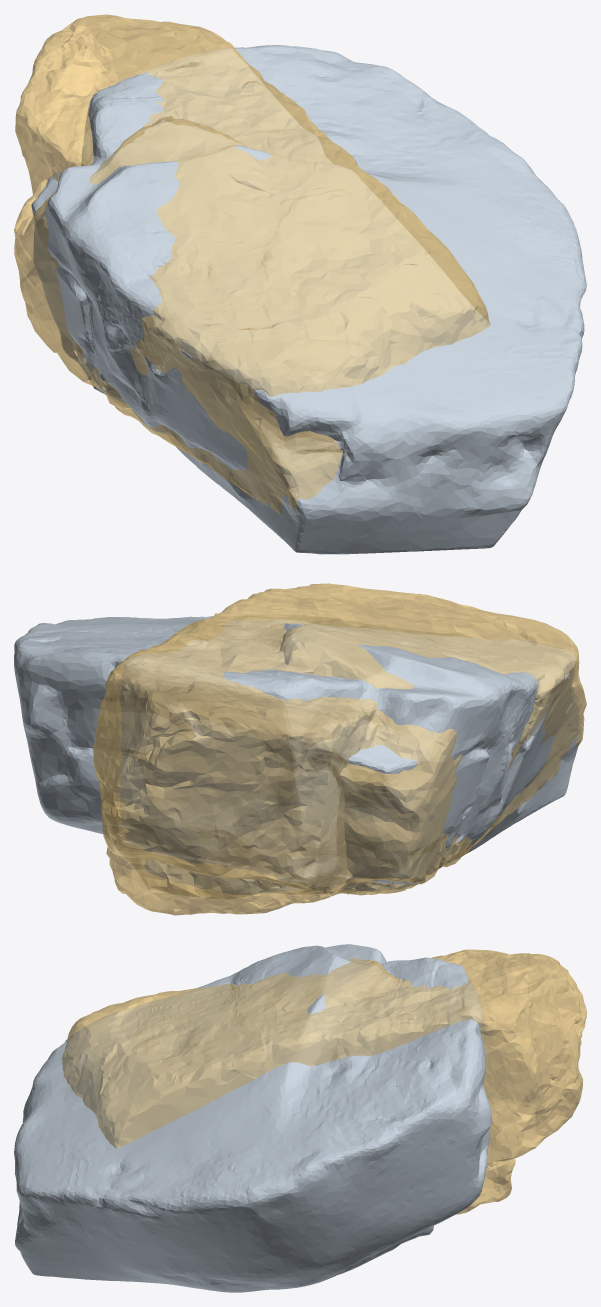
The picture shows the model from 3 angles, top to bottom: view 1: azimuth 30°, elevation 25°; view 2: azimuth 150°, elevation 25°; view 3: azimuth 270°, elevation 25°; orthographic projection. The views are drawn at different scales.
Visible parts, largest first — view 1: imagination, truth; view 2: imagination, truth; view 3: imagination, truth.
Boxes of the visible parts, x1,y1,x2,y2 form: imagination: (31, 45, 586, 554); truth: (14, 14, 490, 514); imagination: (14, 614, 581, 899); truth: (93, 583, 586, 915); imagination: (14, 944, 492, 1292); truth: (62, 949, 586, 1214).
Bounding box in the file's own units: 1.03 × 0.6813 × 1.3.
